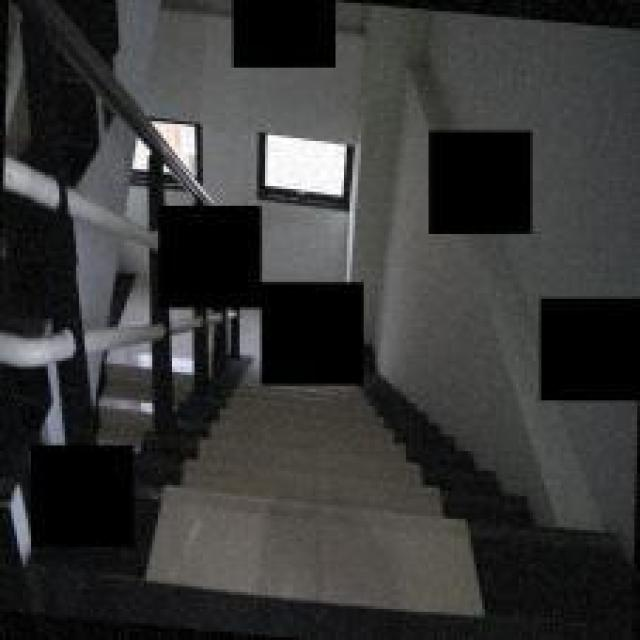downstair: (201, 410, 520, 638)
